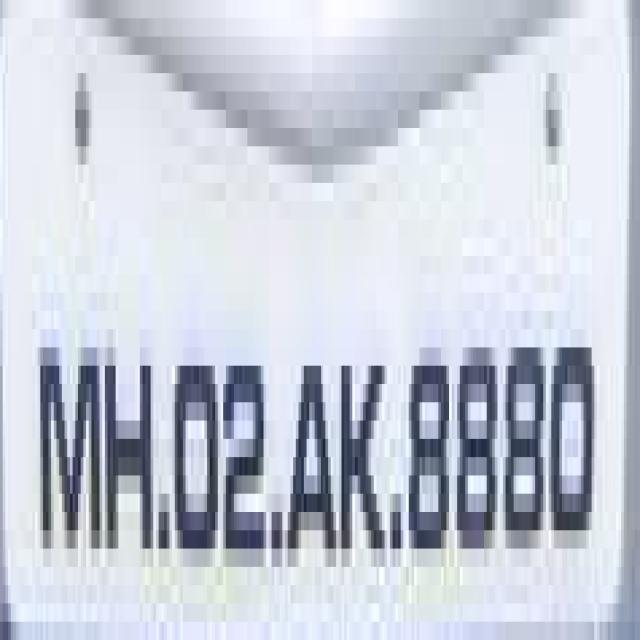license_plate: (13, 18, 597, 640)
